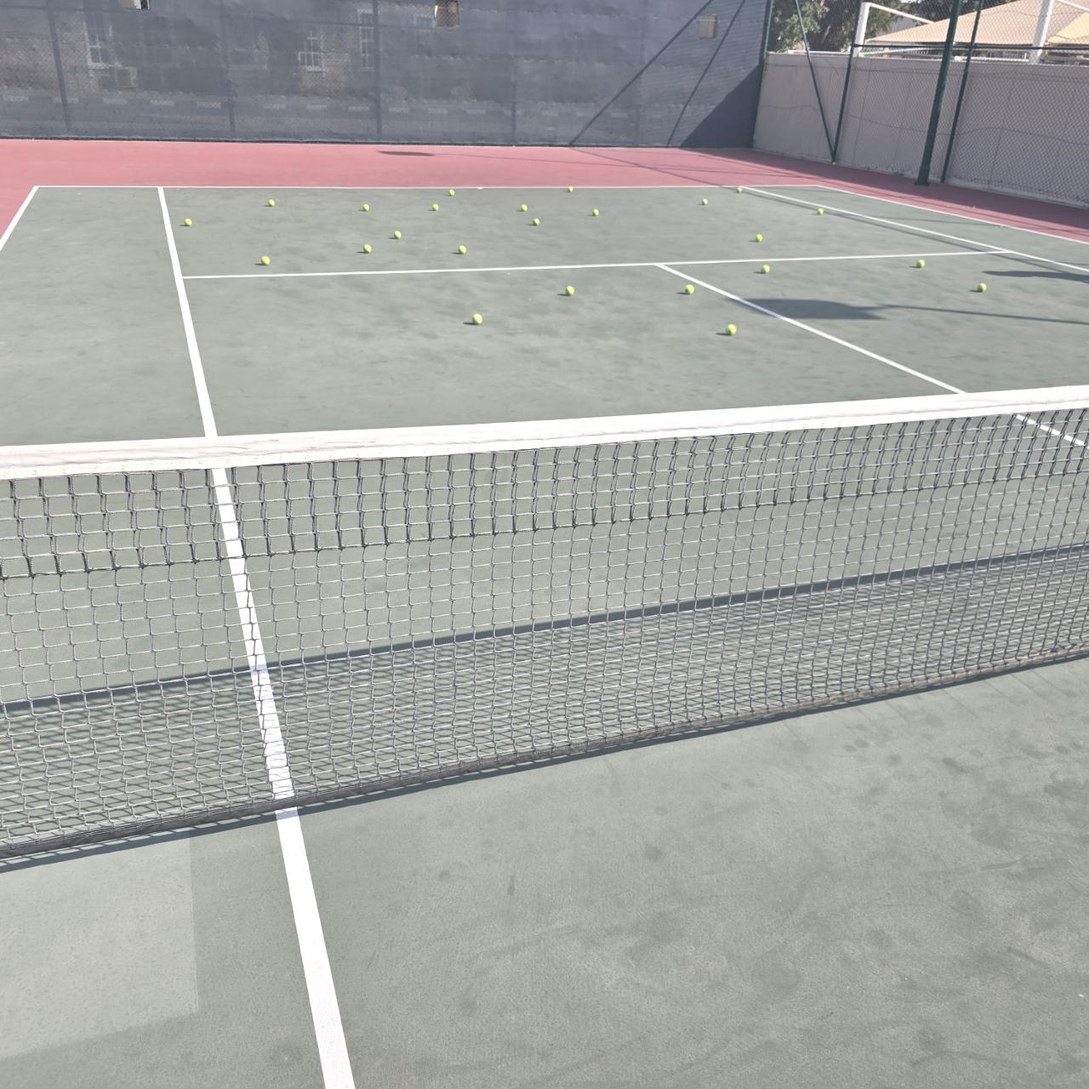tennis-ball: (470, 311, 483, 325), (258, 254, 271, 266), (725, 322, 737, 335), (758, 262, 770, 274), (976, 281, 987, 293), (564, 283, 575, 294), (684, 284, 695, 295), (181, 216, 192, 226), (457, 244, 467, 254), (915, 259, 925, 268), (363, 244, 372, 254), (754, 233, 763, 242), (532, 217, 540, 226), (394, 230, 402, 239), (520, 204, 528, 212), (592, 208, 600, 216), (363, 203, 370, 212), (817, 207, 824, 215), (432, 203, 439, 211), (268, 199, 275, 207), (567, 185, 574, 192), (448, 190, 455, 197), (736, 187, 743, 193), (701, 199, 708, 205), (832, 161, 837, 167)
